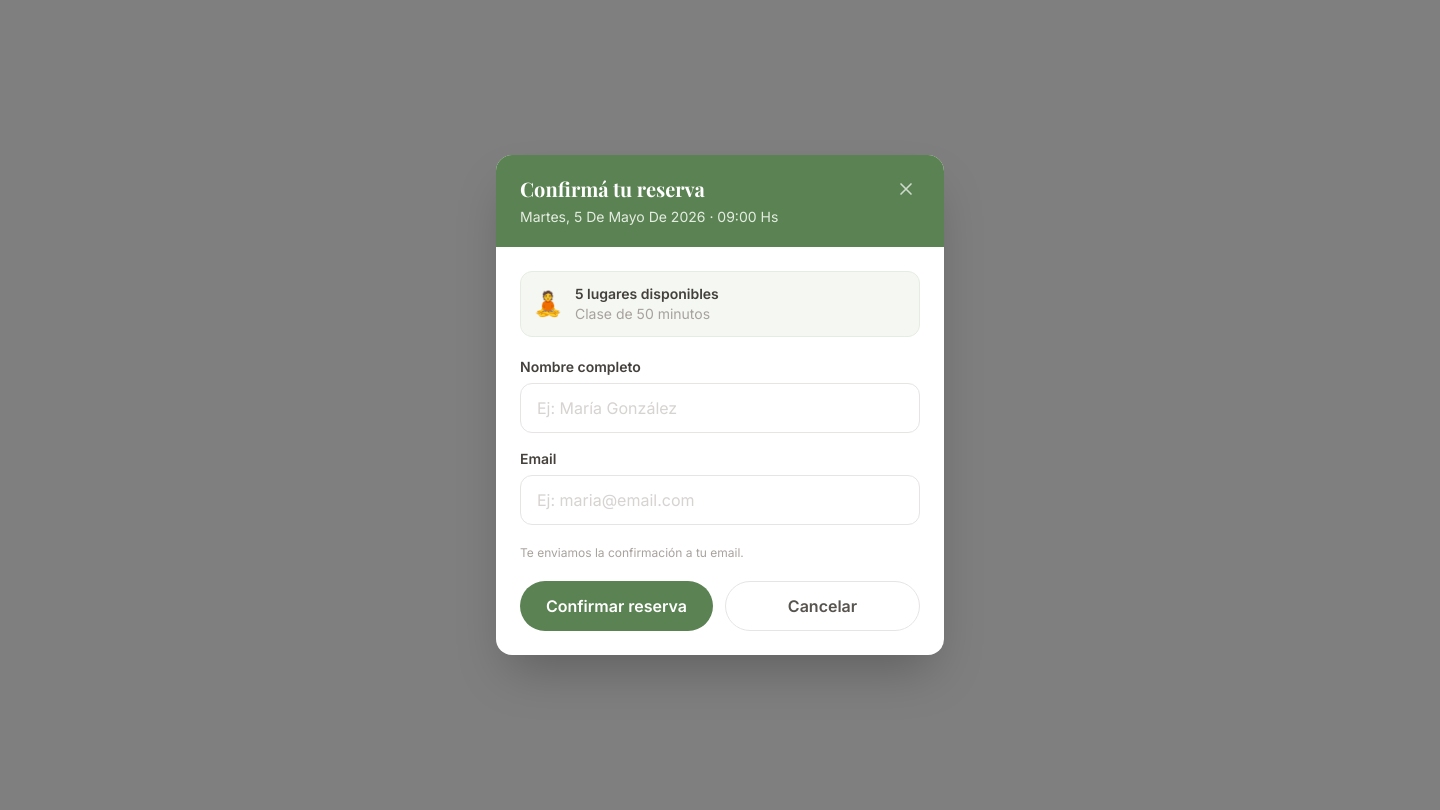
Test: ReservationModal — successful submission › displays the booking ID in the success screen
In the field labelled "Nombre completo": {"x": 720, "y": 408} 520,383 -> 920,433, type "Ana García"
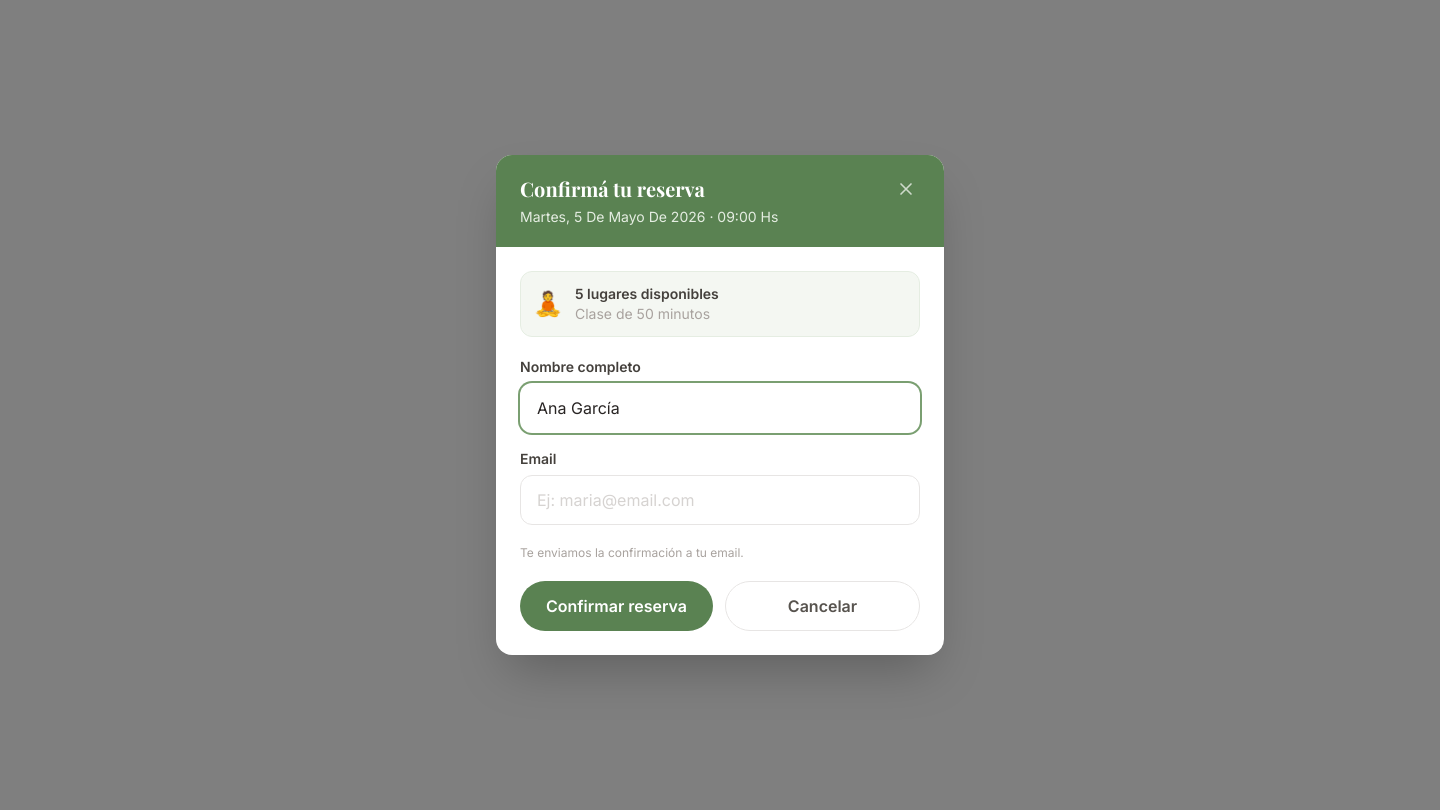
In the field labelled "Email": {"x": 720, "y": 500} 520,475 -> 920,525, type "ana@example.com"
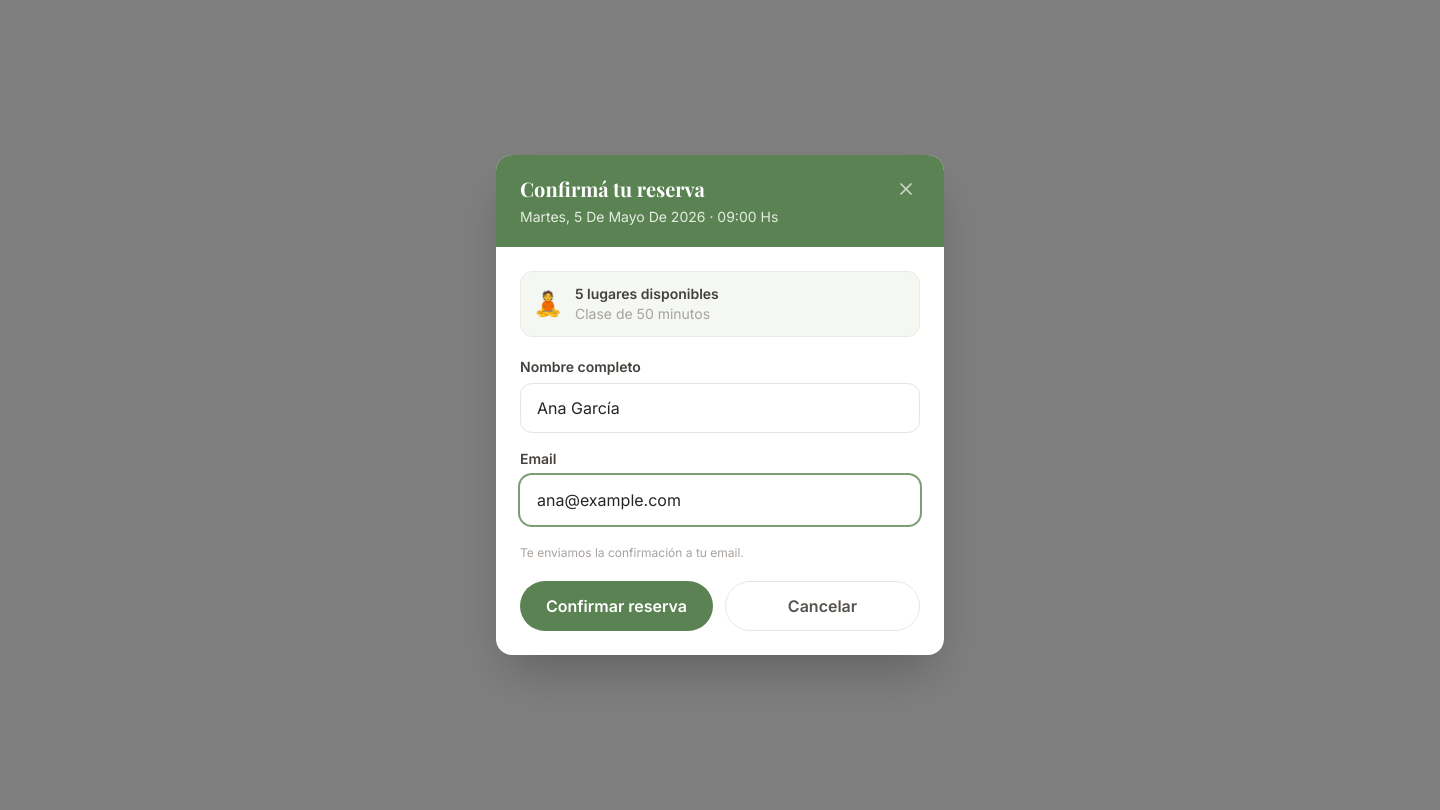
Click the button "Confirmar reserva": {"x": 616, "y": 606} 520,581 -> 713,631
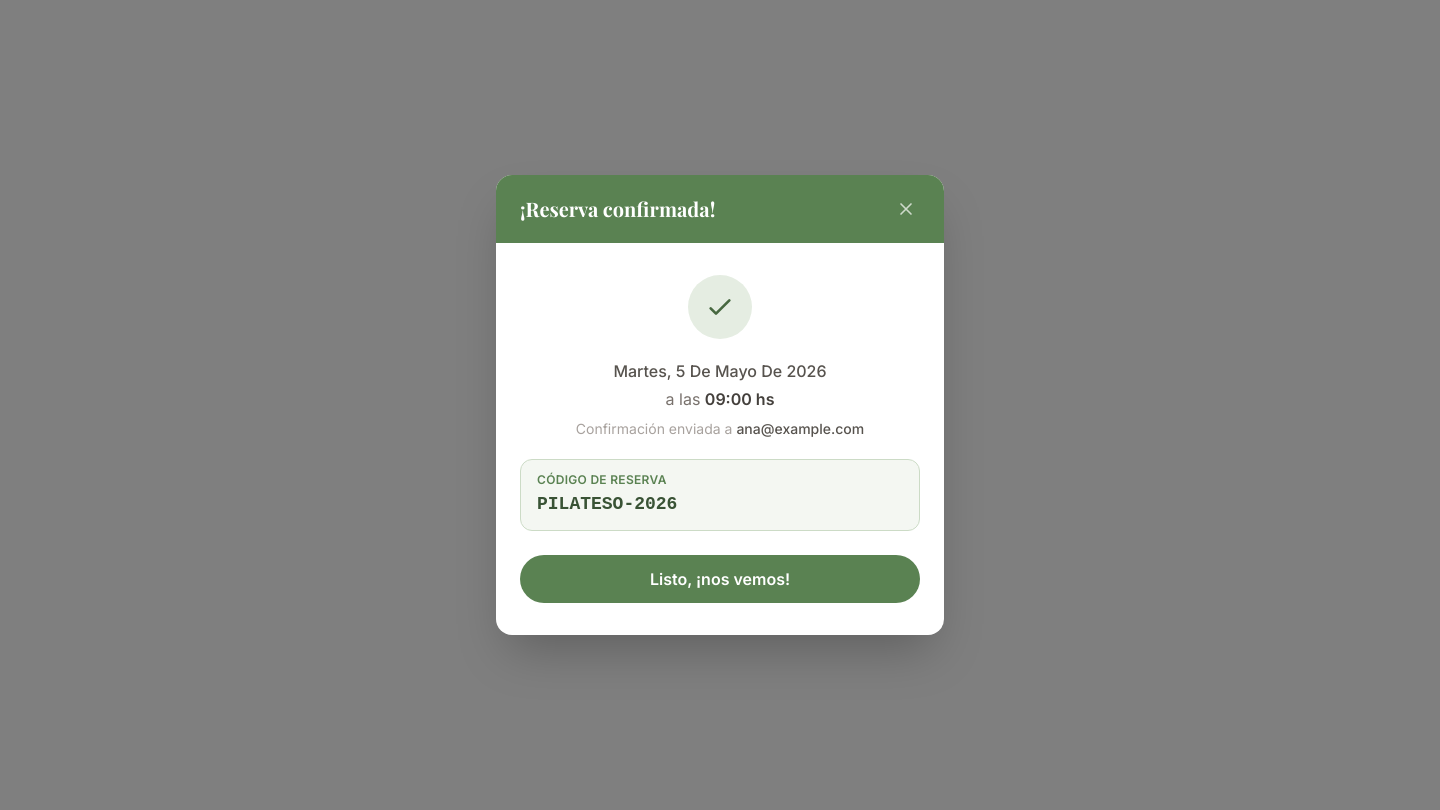
Expected: the text "PILATESO-2026" is shown, 537,494 -> 677,514
